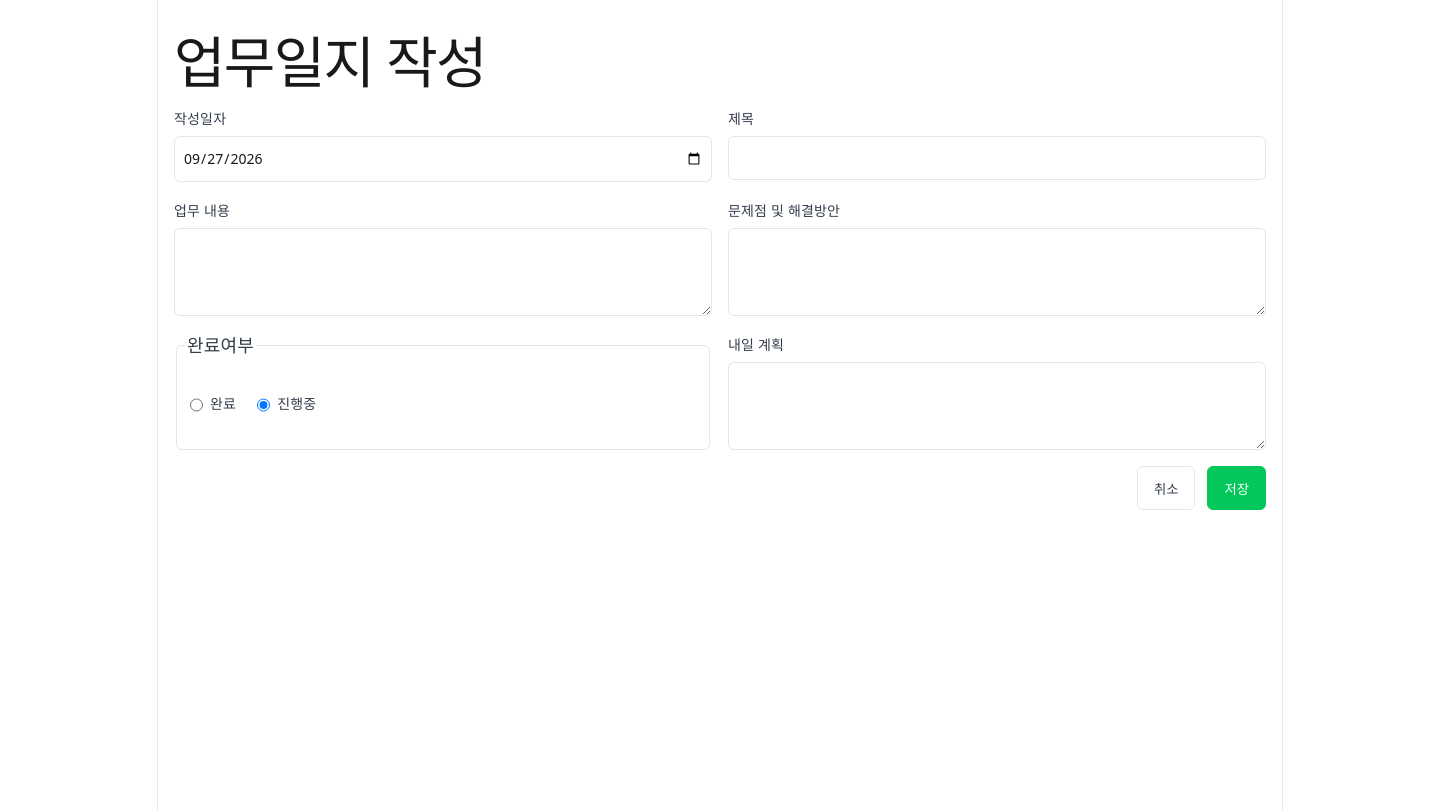
Scenario: WorkLogFormPage › 400 에러 발생 시 alert 영역에 에러 메시지가 노출된다
Step 1. Type "새 업무" into the field labelled "제목" → coordinates (997, 158), box left=728, top=136, right=1266, bottom=180
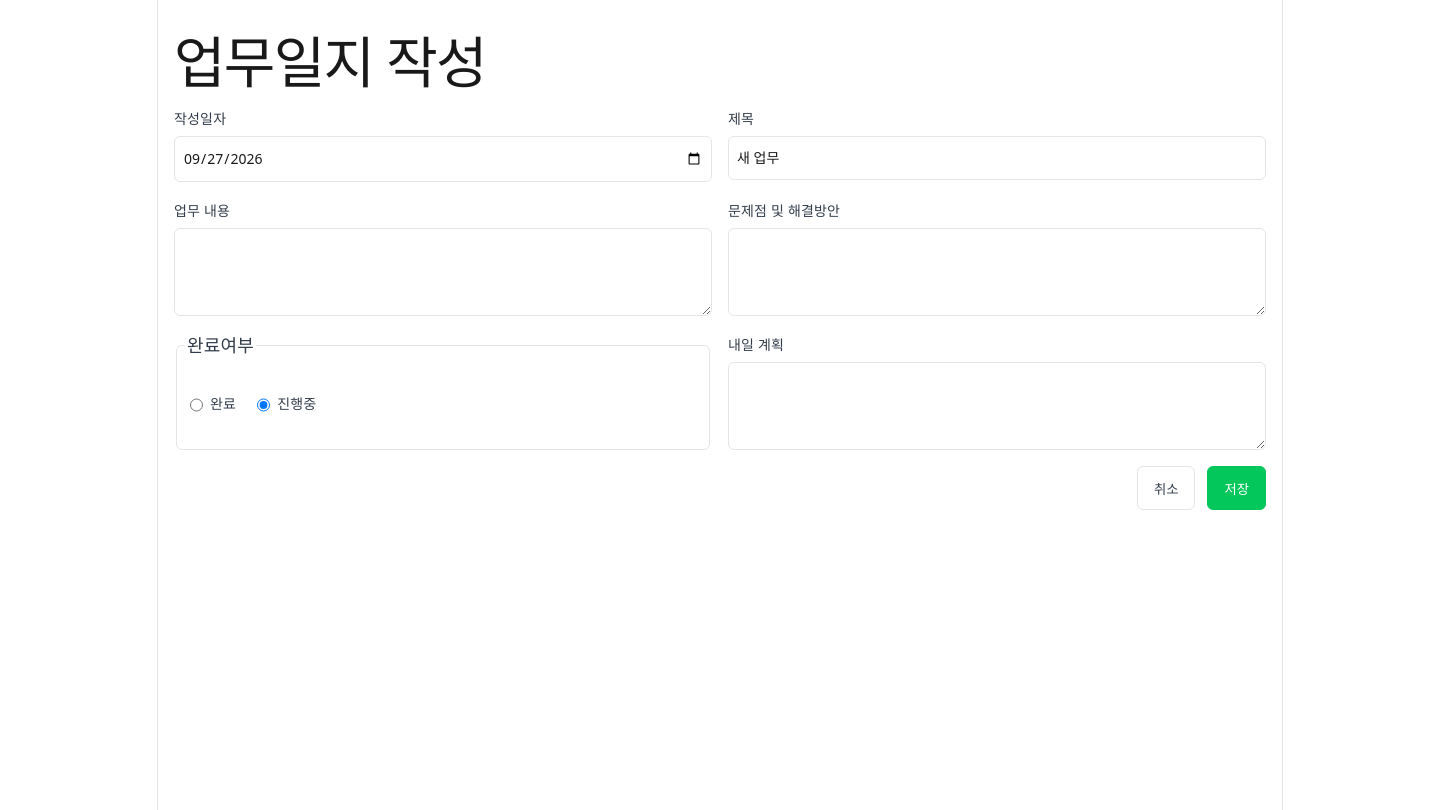
Step 2. Type "내용입니다" into the text box labelled "업무 내용" → coordinates (443, 272), box left=174, top=228, right=712, bottom=316
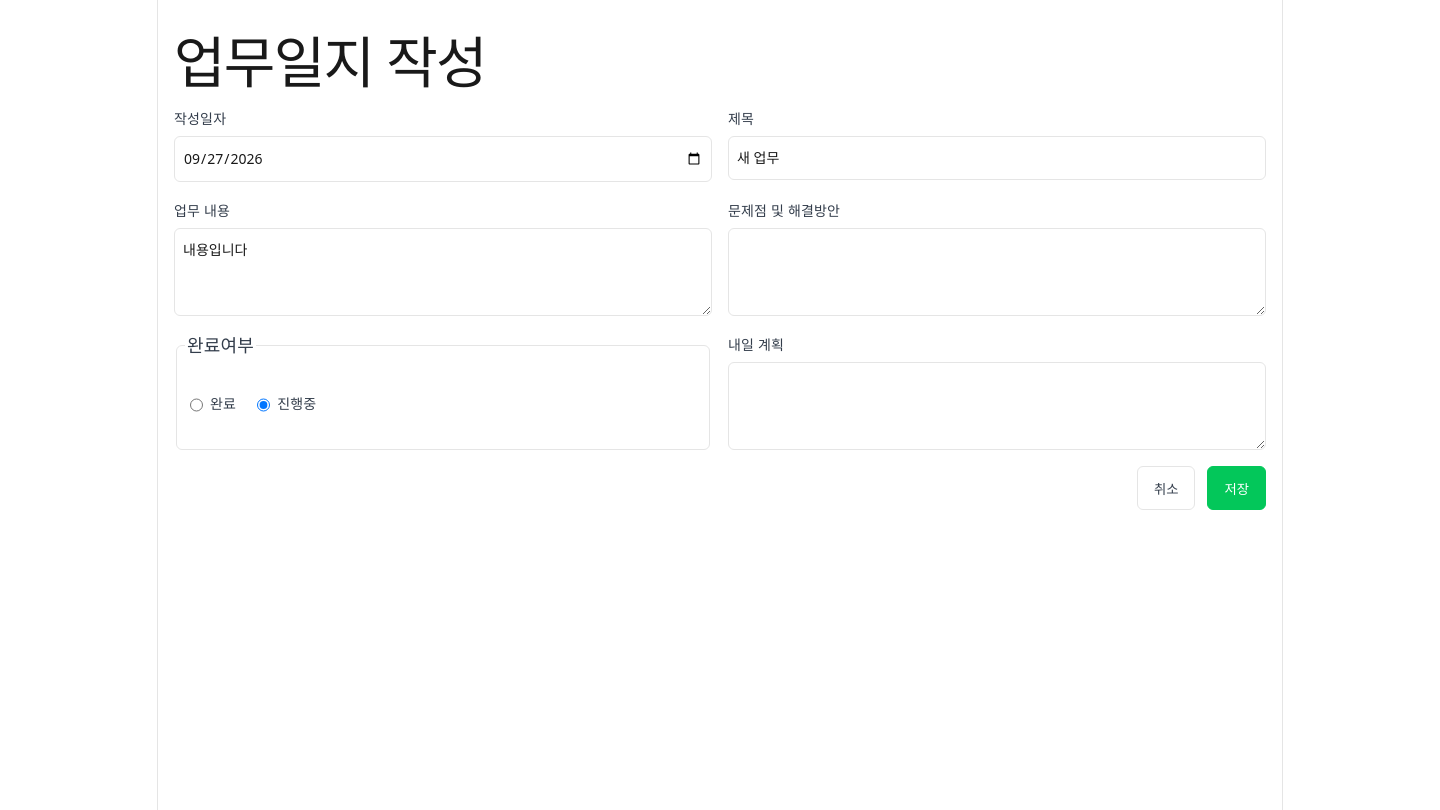
Step 3. Click the radio button named "isCompleted" → coordinates (196, 406), box left=190, top=384, right=203, bottom=428
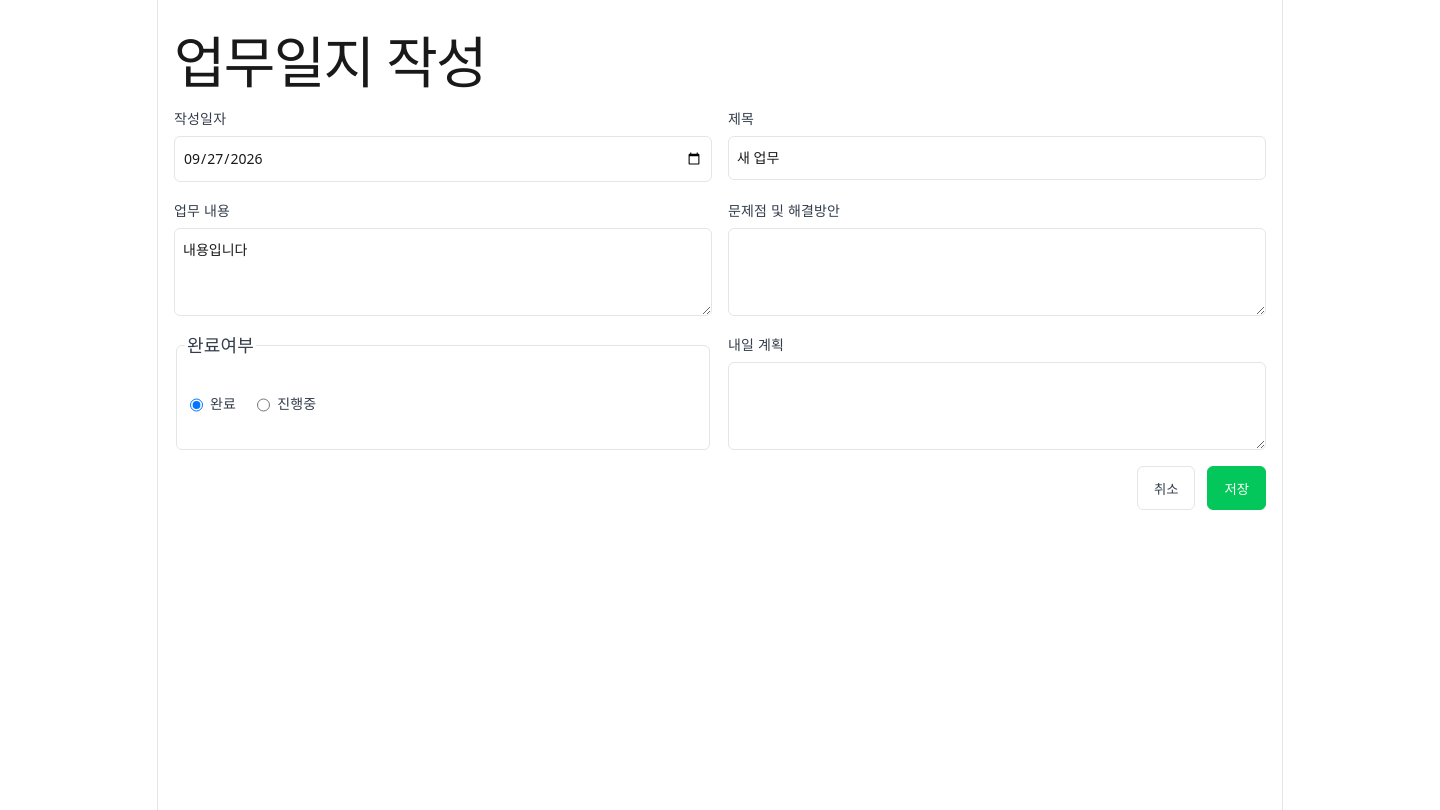
Step 4. Click the button "저장" → coordinates (1237, 488), box left=1208, top=466, right=1266, bottom=510
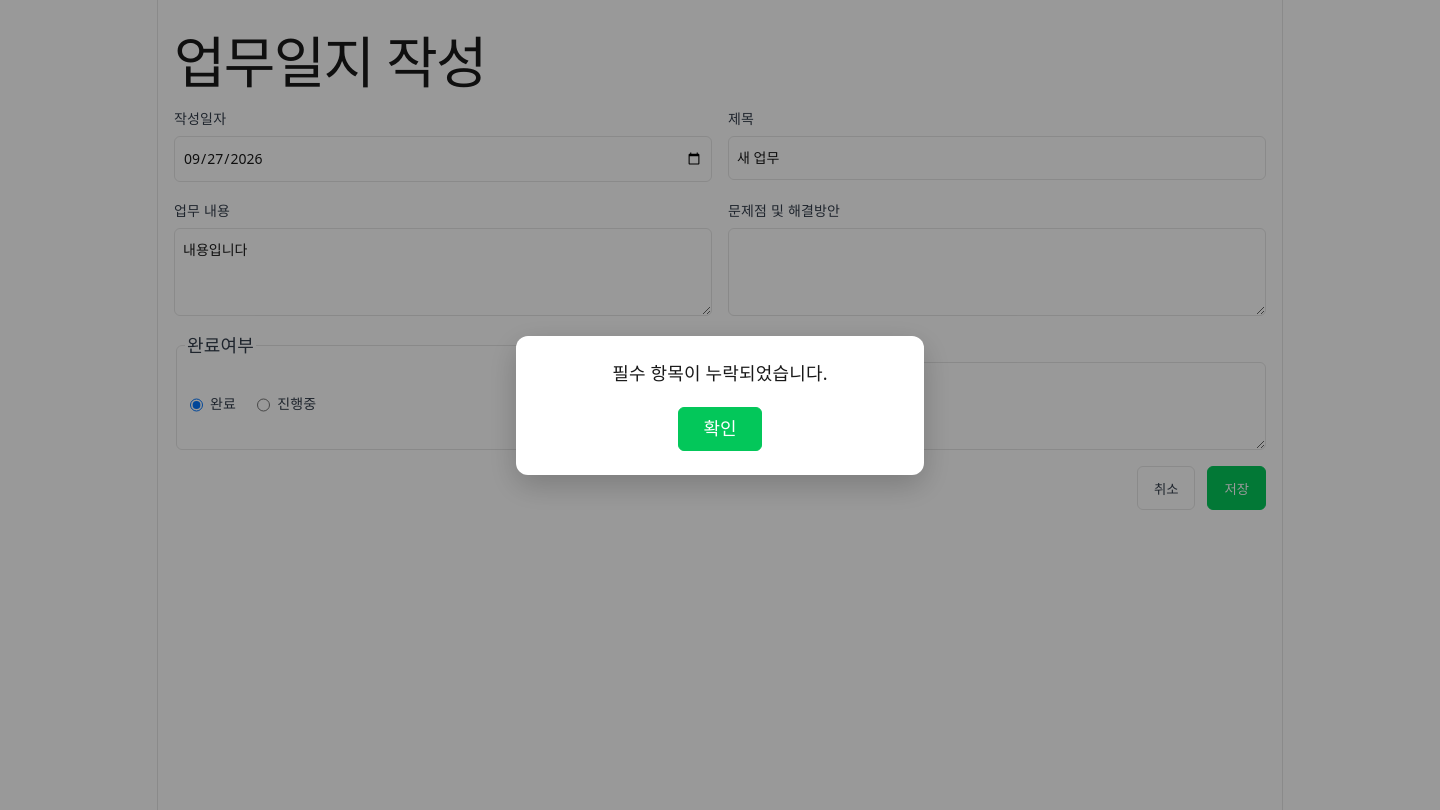
Check: the message shows "필수 항목이 누락되었습니다.", box left=612, top=360, right=828, bottom=384
